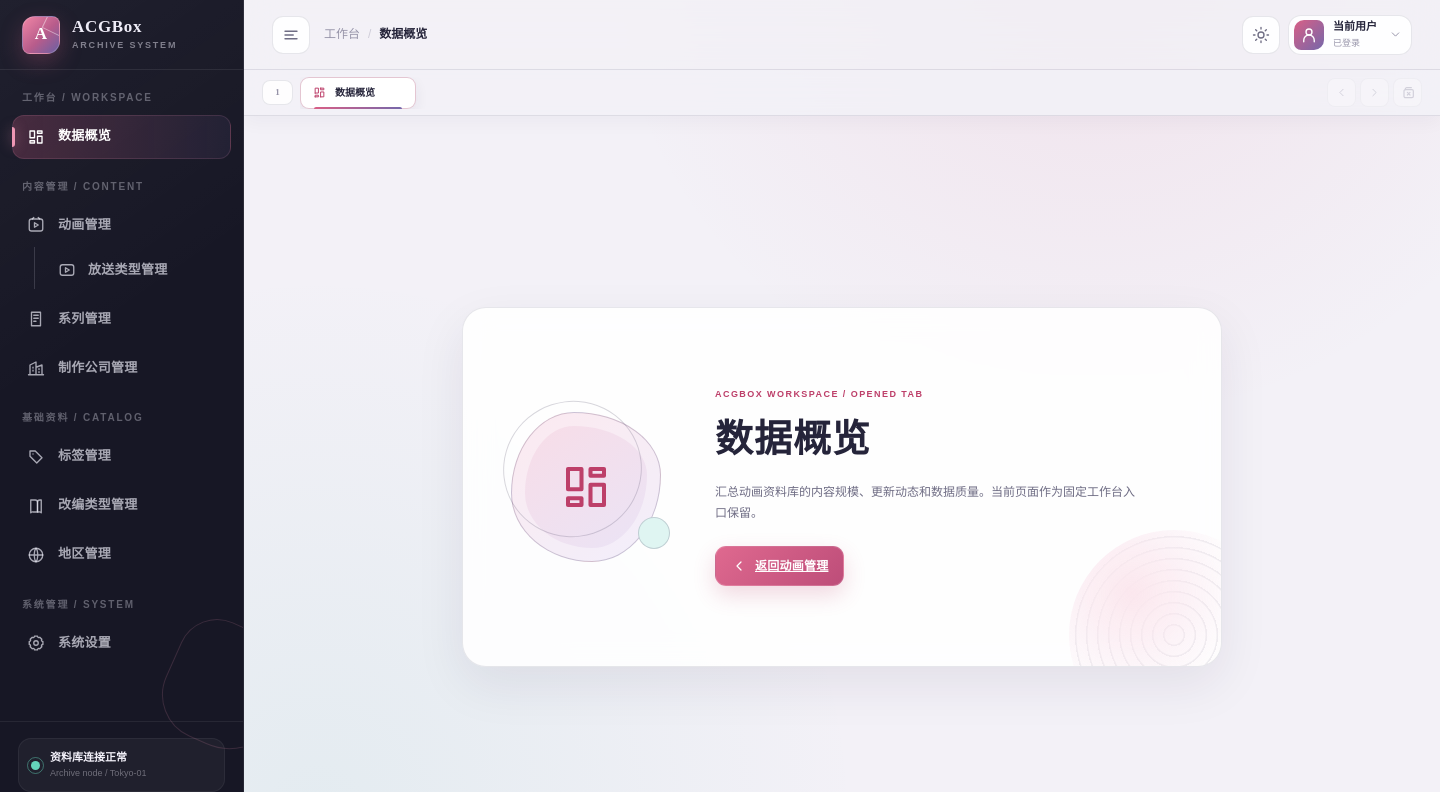
Test: 工作台页面标签 › 点击动画列表名称在当前页面打开详情抽屉
The width and height of the screenshot is (1440, 792).
Click the link to "/admin/anime" at [69, 225], box left=27, top=216, right=111, bottom=234
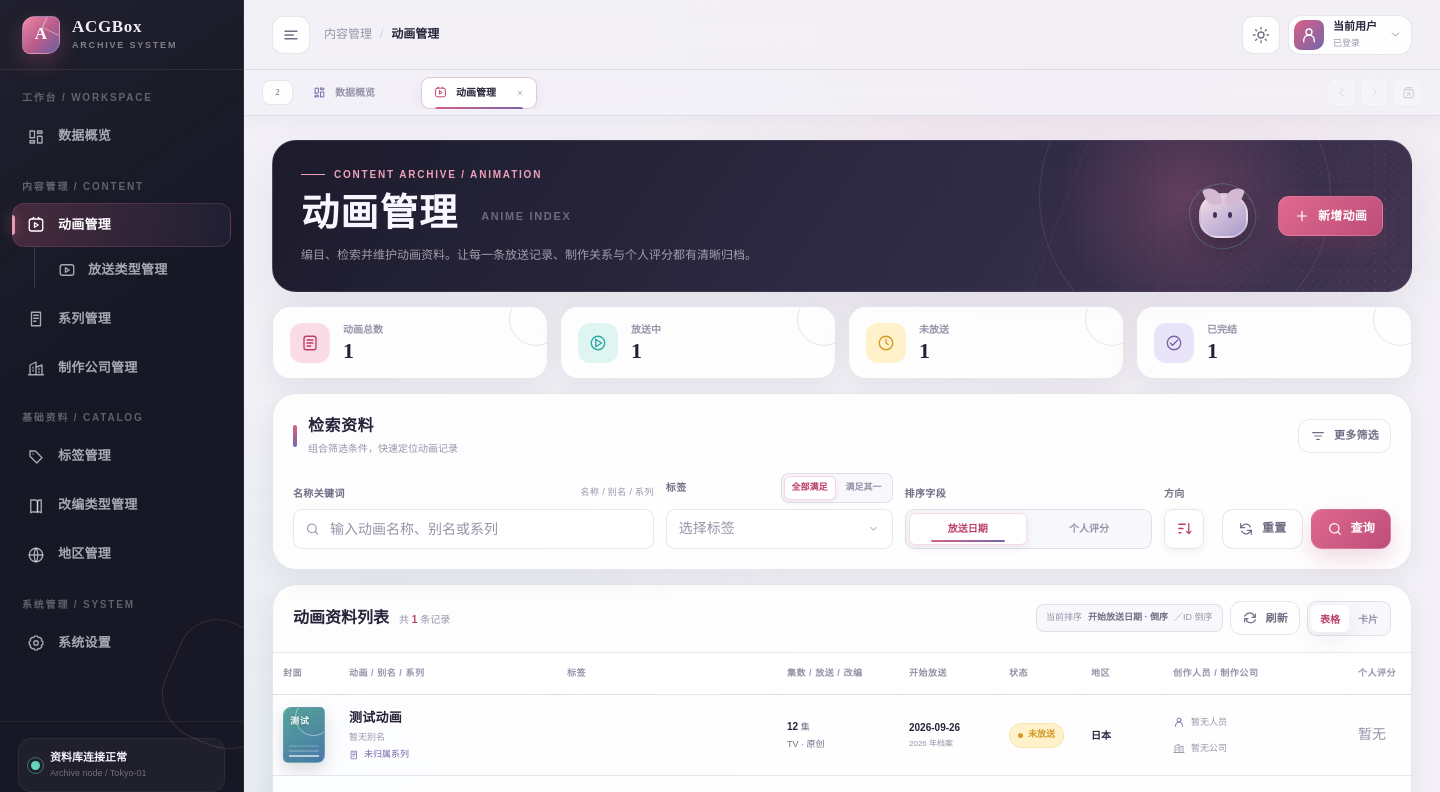
Click the button with class "work-title" at [376, 718], box left=349, top=708, right=402, bottom=728
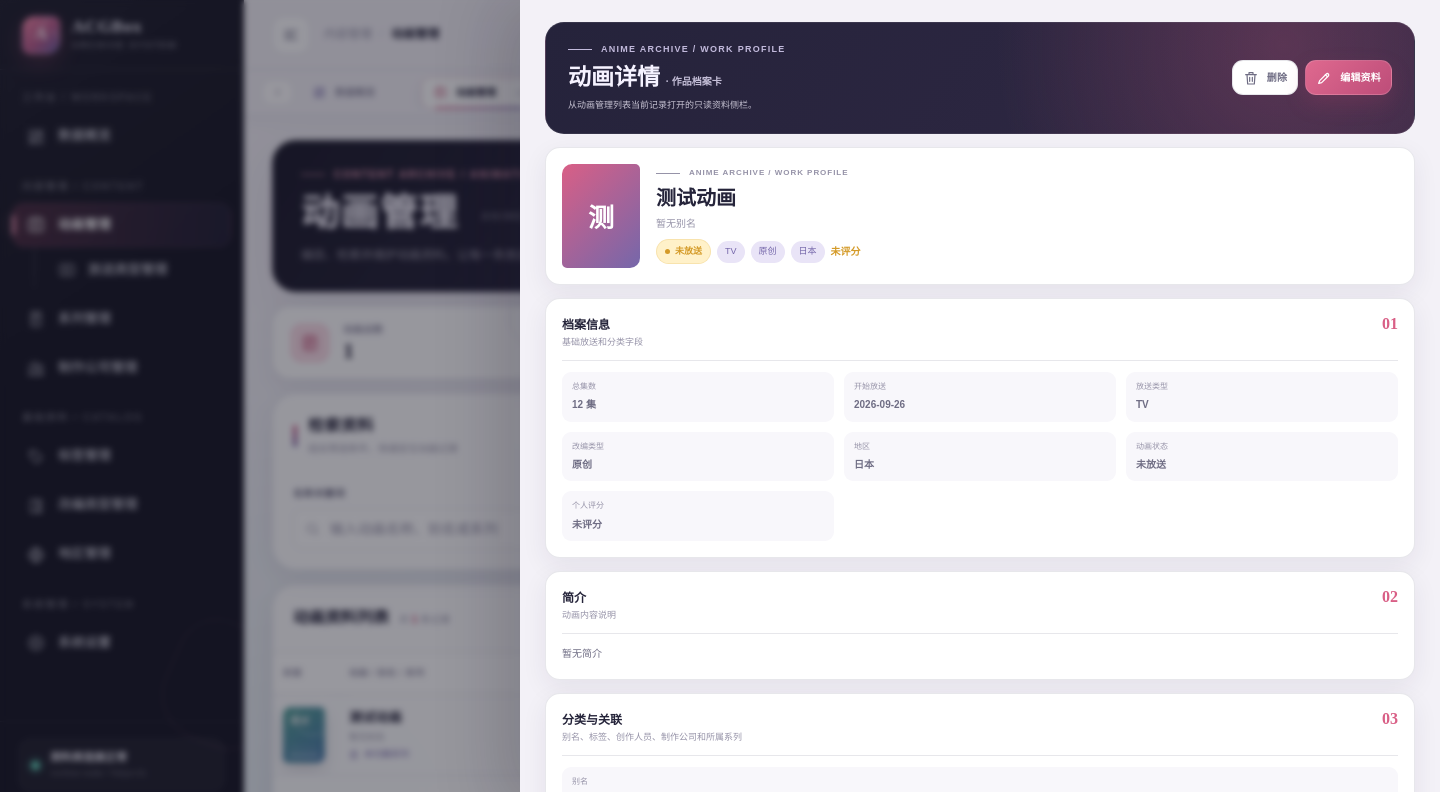
Now the number of elements with class "workspace-tab" is 2, box left=313, top=86, right=375, bottom=99; left=421, top=76, right=537, bottom=108
Now the dialog with class "anime-crud-drawer" shows "测试动画", box left=656, top=187, right=736, bottom=209
